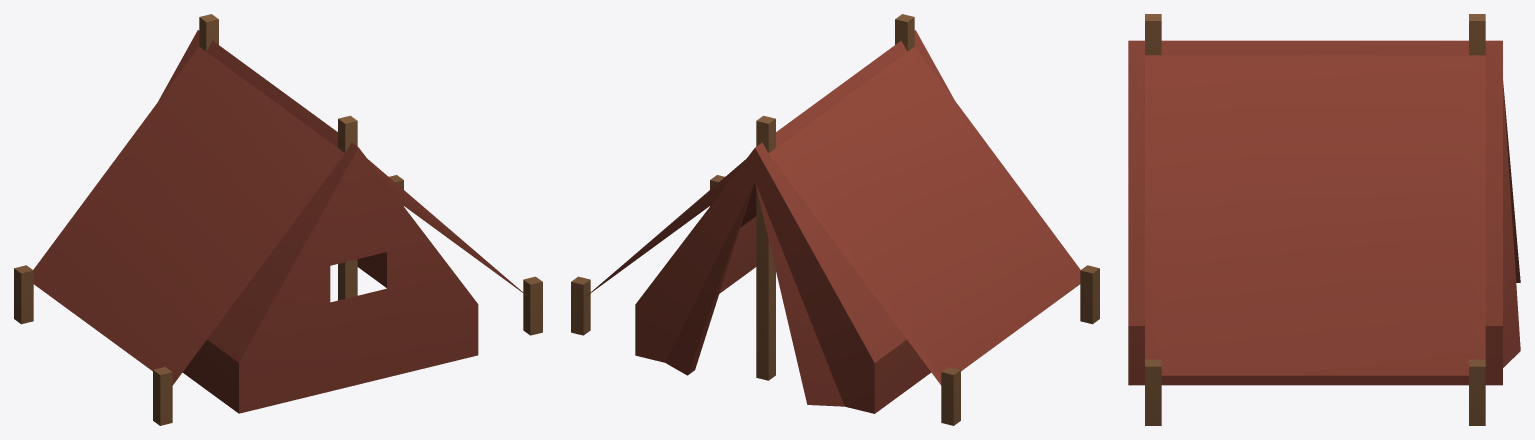
Rendered from tent_l.glb.
The picture shows the model from 3 angles, left to right: view 1: azimuth 30°, elevation 25°; view 2: azimuth 150°, elevation 25°; view 3: azimuth 270°, elevation 25°; orthographic projection. The views are drawn at different scales.
Parts seen in each view (by area): view 1: tent_l; view 2: tent_l; view 3: tent_l.
Boxes of the visible parts, <box> form: tent_l: <box>14,14,542,425</box>; tent_l: <box>571,14,1099,425</box>; tent_l: <box>1128,14,1520,425</box>.
Size of the model in its own units: 2.4 by 1.54 by 1.83.
